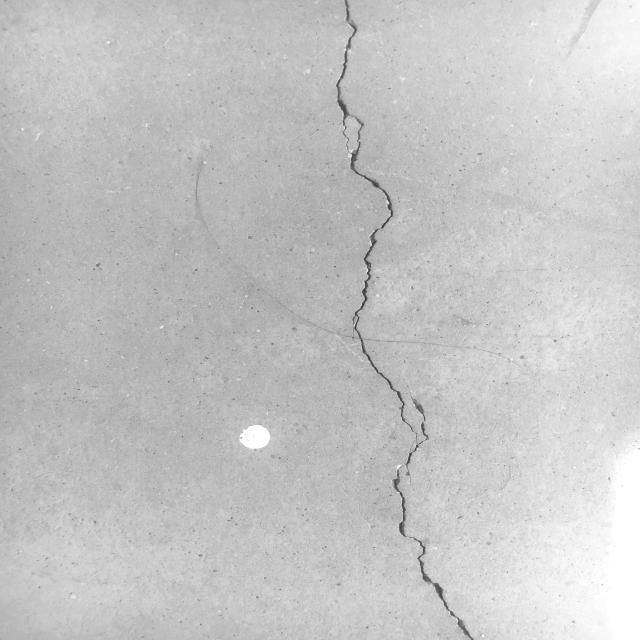SurfaceCrack: (299, 1, 483, 640)
